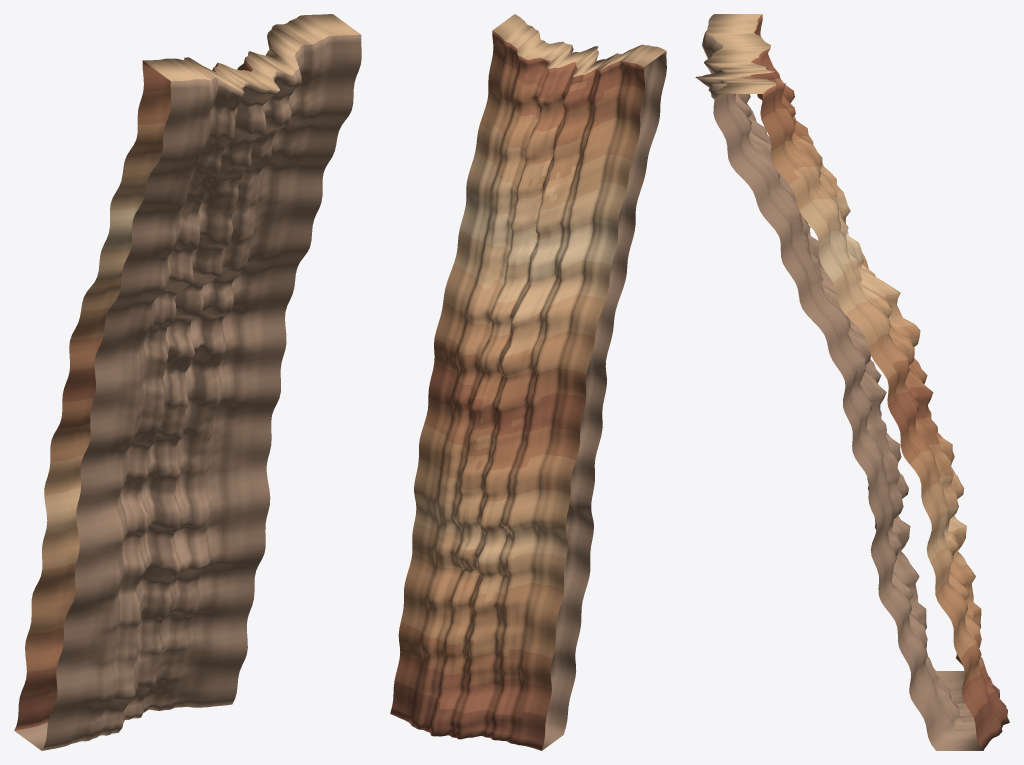
The model's file is SM_CanyonWall_R_Straight_C_Narrow.glb.
The picture shows the model from 3 angles, left to right: view 1: azimuth 30°, elevation 25°; view 2: azimuth 150°, elevation 25°; view 3: azimuth 270°, elevation 25°; orthographic projection. The views are drawn at different scales.
Parts seen in each view (by area): view 1: SM_CanyonWall_R_Straight_C_Narrow; view 2: SM_CanyonWall_R_Straight_C_Narrow; view 3: SM_CanyonWall_R_Straight_C_Narrow.
Boxes of the visible parts, x1,y1,x2,y2 form: SM_CanyonWall_R_Straight_C_Narrow: (14, 14, 361, 750); SM_CanyonWall_R_Straight_C_Narrow: (390, 14, 666, 750); SM_CanyonWall_R_Straight_C_Narrow: (695, 14, 1009, 750).
Bounding box in the file's own units: 24 × 92 × 39.97.
